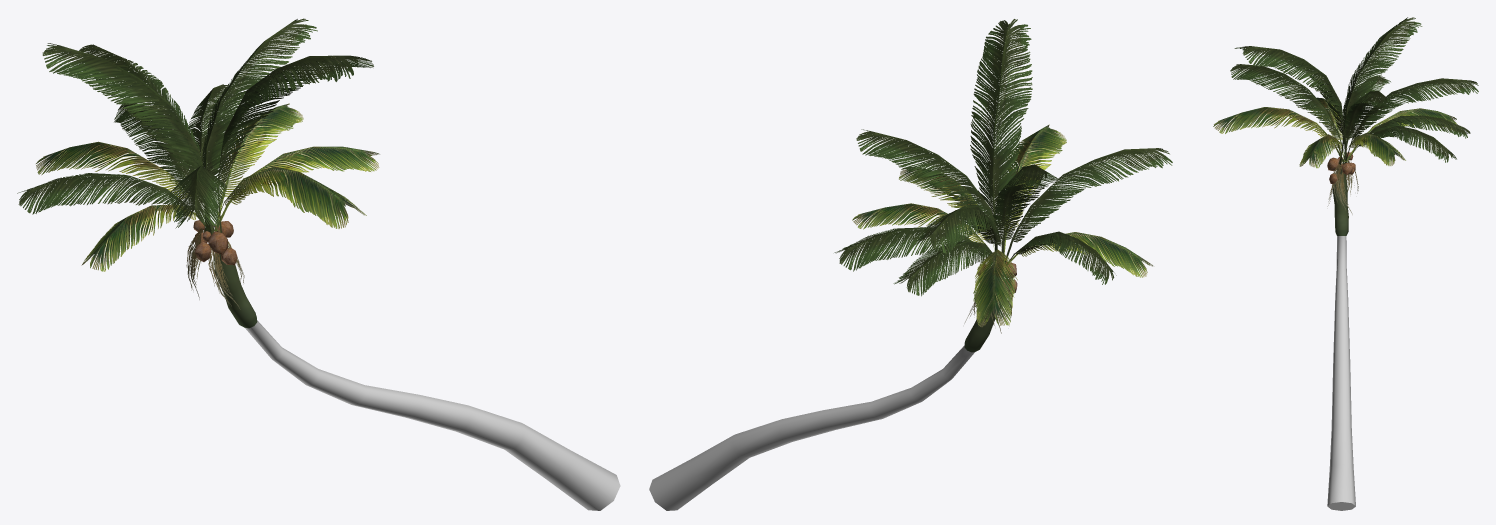
The model's file is kiV2_LOD0.fbx.
3 views of the same model, side by side, from view 1: azimuth 30°, elevation 25°; view 2: azimuth 150°, elevation 25°; view 3: azimuth 270°, elevation 25° (orthographic). The views are drawn at different scales.
Visible parts, largest first — view 1: Mesh Object; view 2: Mesh Object; view 3: Mesh Object.
Boxes of the visible parts, <box> form: Mesh Object: <box>17,18,620,510</box>; Mesh Object: <box>649,19,1172,510</box>; Mesh Object: <box>1213,17,1478,510</box>.
Bounding box in the file's own units: 40.14 × 39.36 × 26.14.
